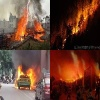fire: (14, 9, 47, 43), (71, 2, 100, 35), (14, 65, 34, 90), (60, 73, 84, 83), (62, 38, 66, 49)
